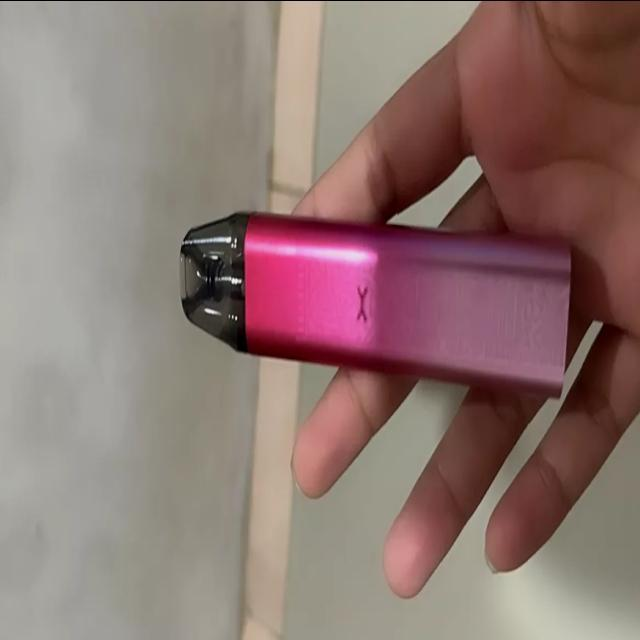Hazard: (181, 204, 575, 402)
